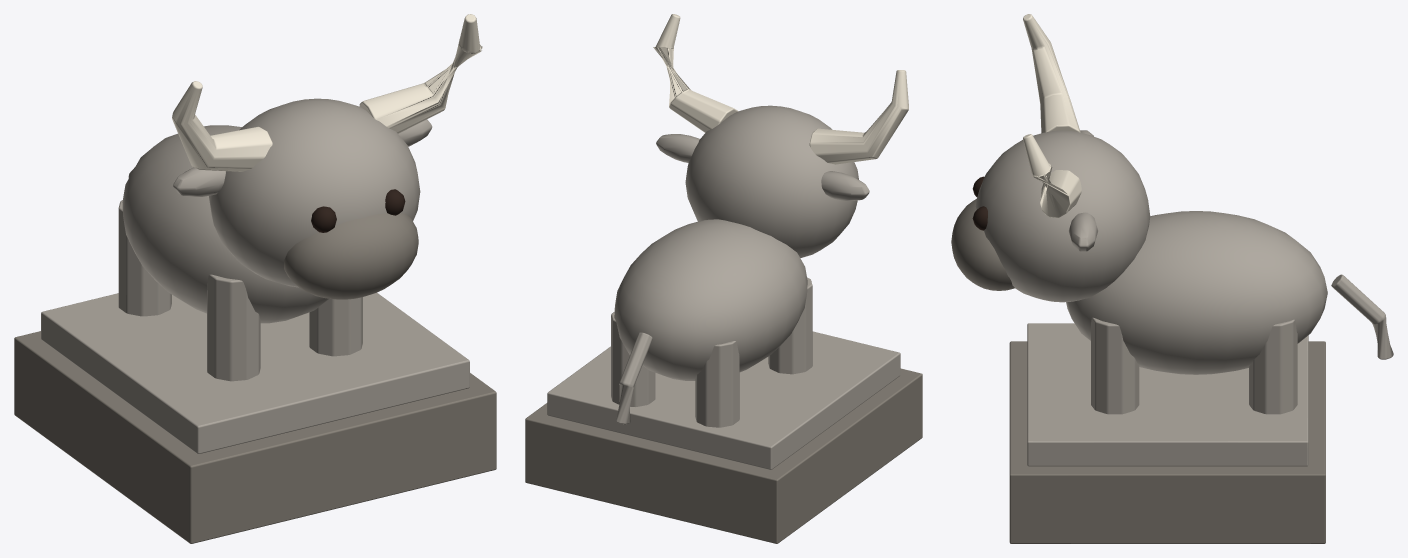
The model's file is estatua_touro.glb.
3 renders of one model, left to right at view 1: azimuth 30°, elevation 25°; view 2: azimuth 150°, elevation 25°; view 3: azimuth 270°, elevation 25°, orthographic. The views are drawn at different scales.
Visible parts, largest first — view 1: Estatua; view 2: Estatua; view 3: Estatua.
Boxes of the visible parts, x1,y1,x2,y2 form: Estatua: (14, 14, 496, 543); Estatua: (525, 14, 922, 543); Estatua: (951, 14, 1393, 543).
Size of the model in its own units: 0.9047 by 1.26 by 1.26.
